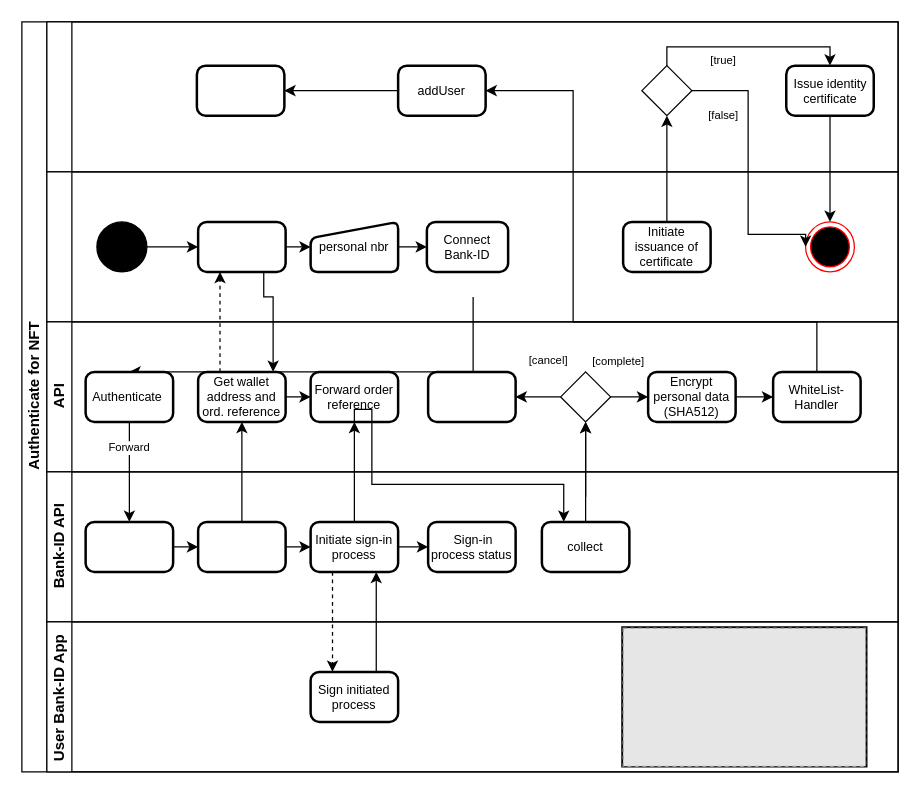
Image size: 920x794. Some labels were removed from this diagram. Grey dashed boxes stand in for pictures. Each missing label, with the box of its shape:
Add HashedGovID to storage: (195, 64, 285, 116)
auth: (84, 520, 174, 572)
Auth Contract: (46, 21, 898, 172)
Connect Web3 (MetaMask): (196, 220, 286, 272)
Generate order reference: (196, 520, 286, 572)
Status: (559, 371, 611, 422)
Throw internal server error: (426, 370, 516, 422)
Website/User: (46, 171, 898, 322)
WL: (641, 64, 692, 116)
